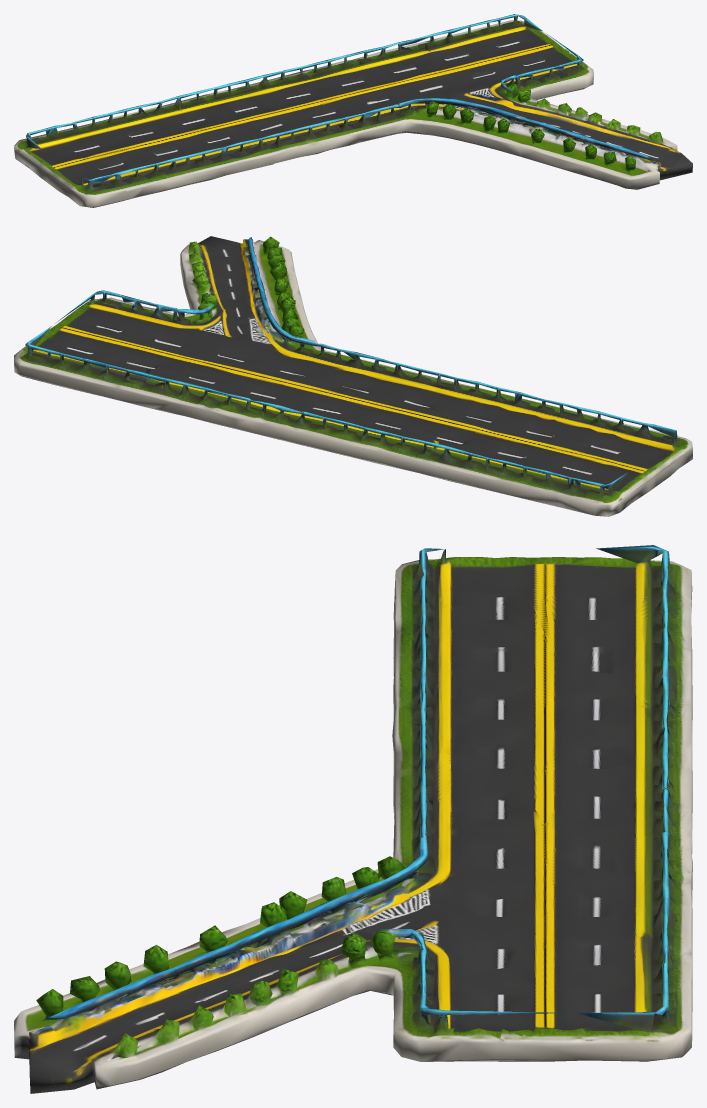
The model's file is roadsidediagonalroadadd.glb.
The picture shows the model from 3 angles, top to bottom: view 1: azimuth 30°, elevation 25°; view 2: azimuth 150°, elevation 25°; view 3: azimuth 270°, elevation 25°; orthographic projection. The views are drawn at different scales.
Parts seen in each view (by area): view 1: tripo_node_5029df0c-3575-4879-8a15-3ffb0384d335; view 2: tripo_node_5029df0c-3575-4879-8a15-3ffb0384d335; view 3: tripo_node_5029df0c-3575-4879-8a15-3ffb0384d335.
Boxes of the visible parts, box(x1,y1,x2,y2) form: tripo_node_5029df0c-3575-4879-8a15-3ffb0384d335: box(14, 14, 692, 207); tripo_node_5029df0c-3575-4879-8a15-3ffb0384d335: box(14, 236, 692, 516); tripo_node_5029df0c-3575-4879-8a15-3ffb0384d335: box(14, 545, 692, 1093).
Bounding box in the file's own units: 1 × 0.0792 × 0.5923.
1 material, 1 textured.
